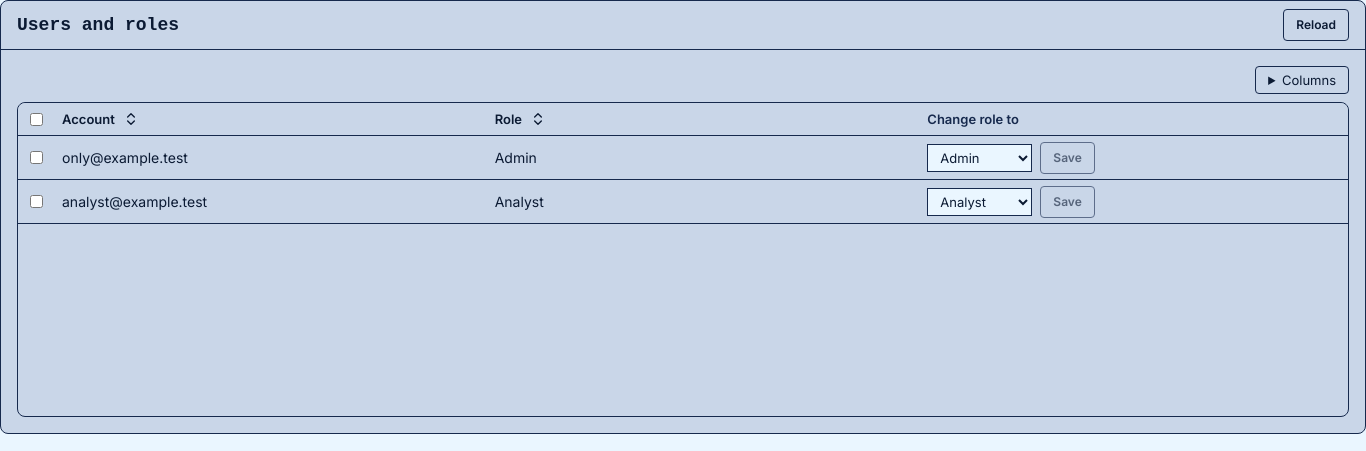
Scenario: UsersPanel › disables the save control until a different role is picked
Expected: the button with aria-label "Save the new role for only@example.test" is disabled, [1040, 142, 1095, 174]
Select "Viewer" in the dropdown named "New role for only@example.test" in the row of "only@example.test". click: (980, 158)
box: [927, 144, 1032, 172]
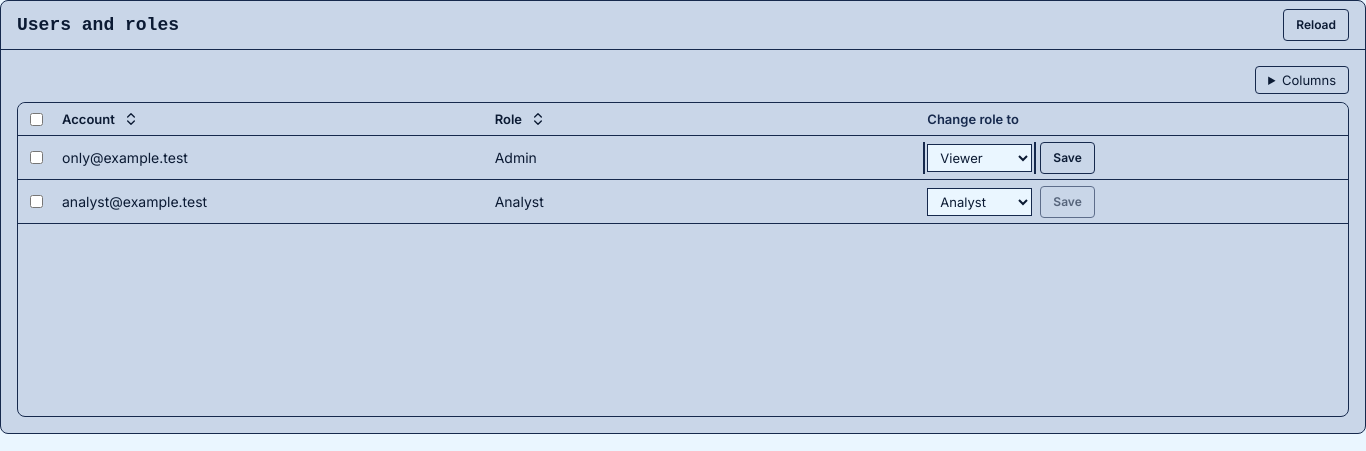
Result: the button with aria-label "Save the new role for only@example.test" is enabled at [1040, 142, 1095, 174]
